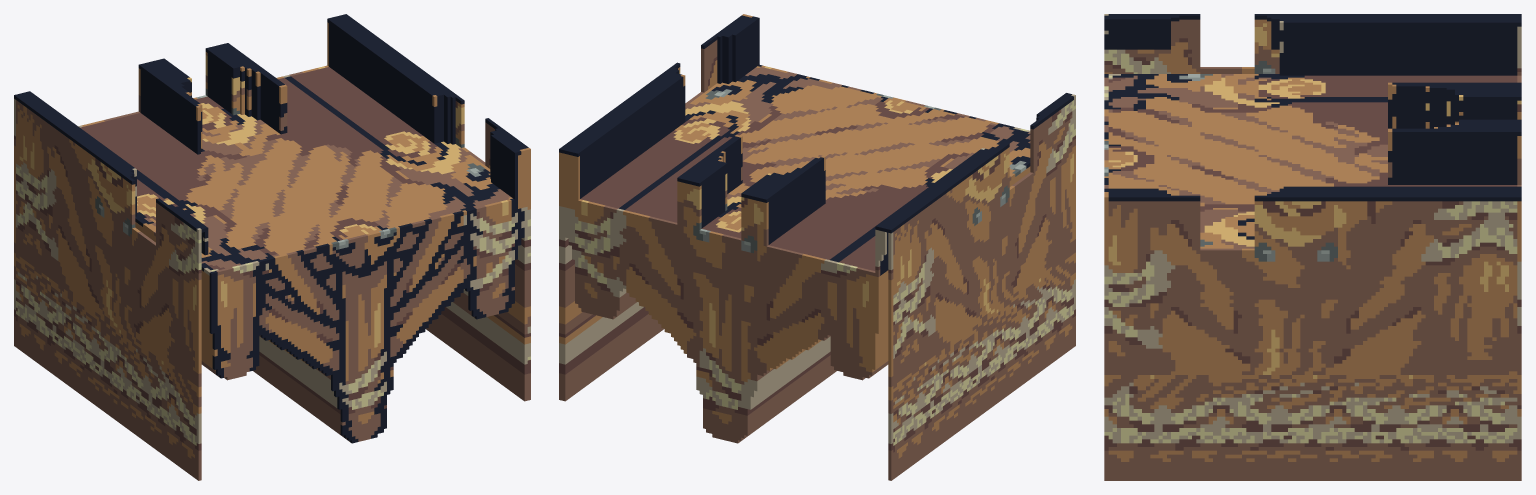
The model's file is oficina_nivel3.glb.
The picture shows the model from 3 angles, left to right: view 1: azimuth 30°, elevation 25°; view 2: azimuth 150°, elevation 25°; view 3: azimuth 270°, elevation 25°; orthographic projection. The views are drawn at different scales.
Visible parts, largest first — view 1: q0; view 2: q0; view 3: q0.
Part boxes in pixels (box(x1,y1,x2,y2)): q0: box(14, 14, 530, 480); q0: box(559, 14, 1075, 480); q0: box(1104, 14, 1521, 480).
Size of the model in its own units: 104 by 75 by 100.
1 material, 1 textured.
